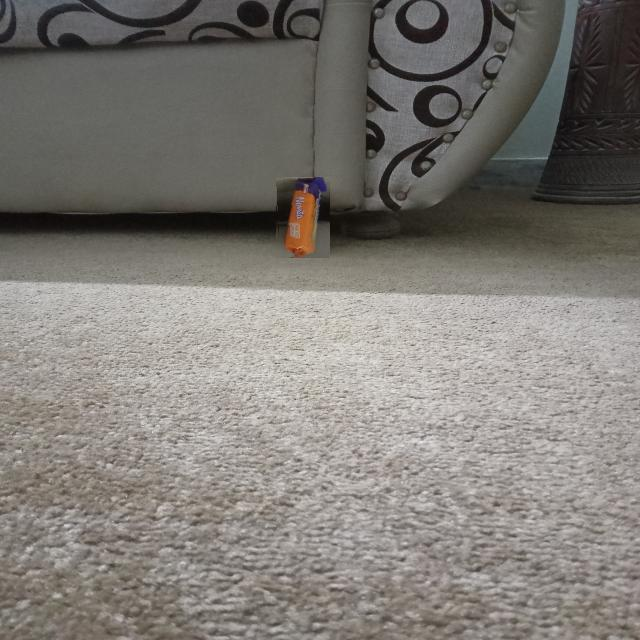Plastic: (275, 177, 330, 258)
